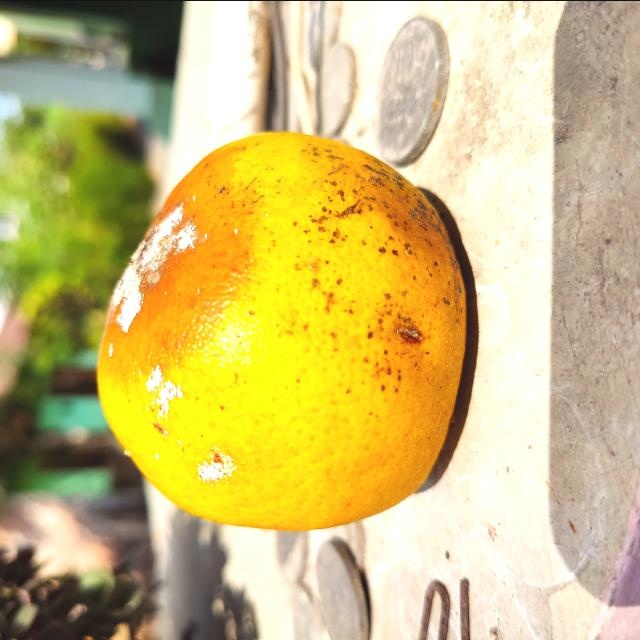agrume: (90, 130, 470, 538)
